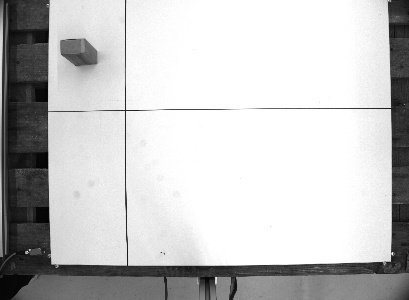b1: (57, 35, 99, 68)
